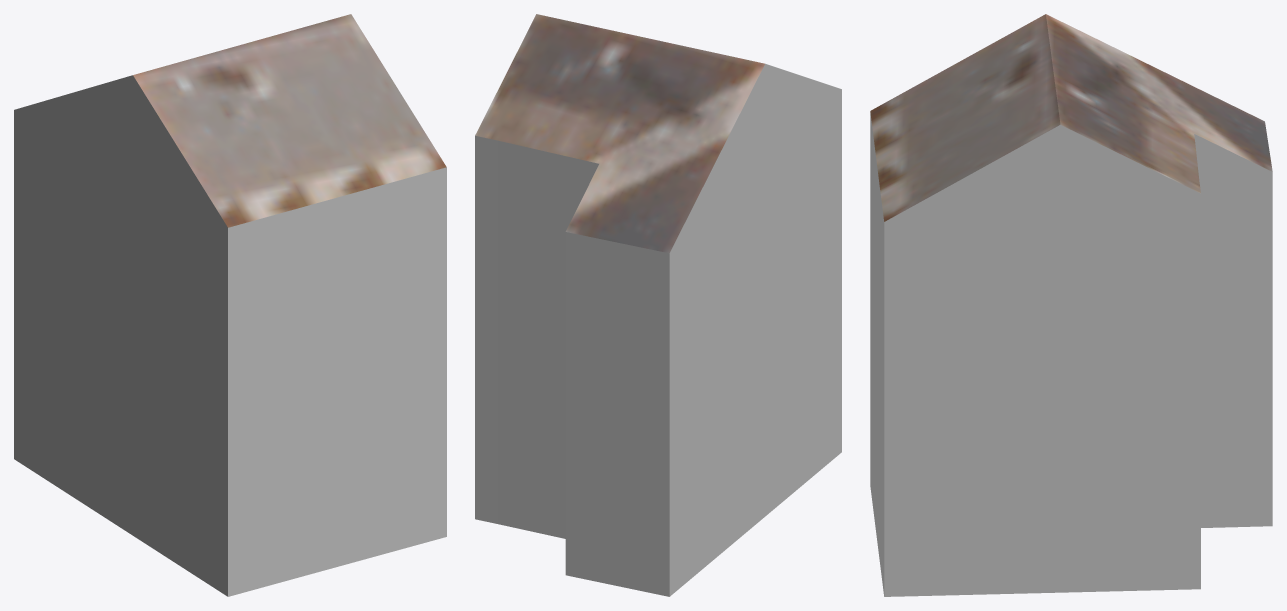
File: DEBW_0010007Tx9y.gltf
The picture shows the model from 3 angles, left to right: view 1: azimuth 30°, elevation 25°; view 2: azimuth 150°, elevation 25°; view 3: azimuth 270°, elevation 25°; orthographic projection. The views are drawn at different scales.
Parts seen in each view (by area): view 1: Z_UP; view 2: Z_UP; view 3: Z_UP.
Boxes of the visible parts, x1,y1,x2,y2 form: Z_UP: (14,14,446,596); Z_UP: (475,14,841,596); Z_UP: (870,14,1272,596).
Size of the model in its own units: 9.25 by 16.65 by 12.98.
Materials: 2 (1 with a texture image).
